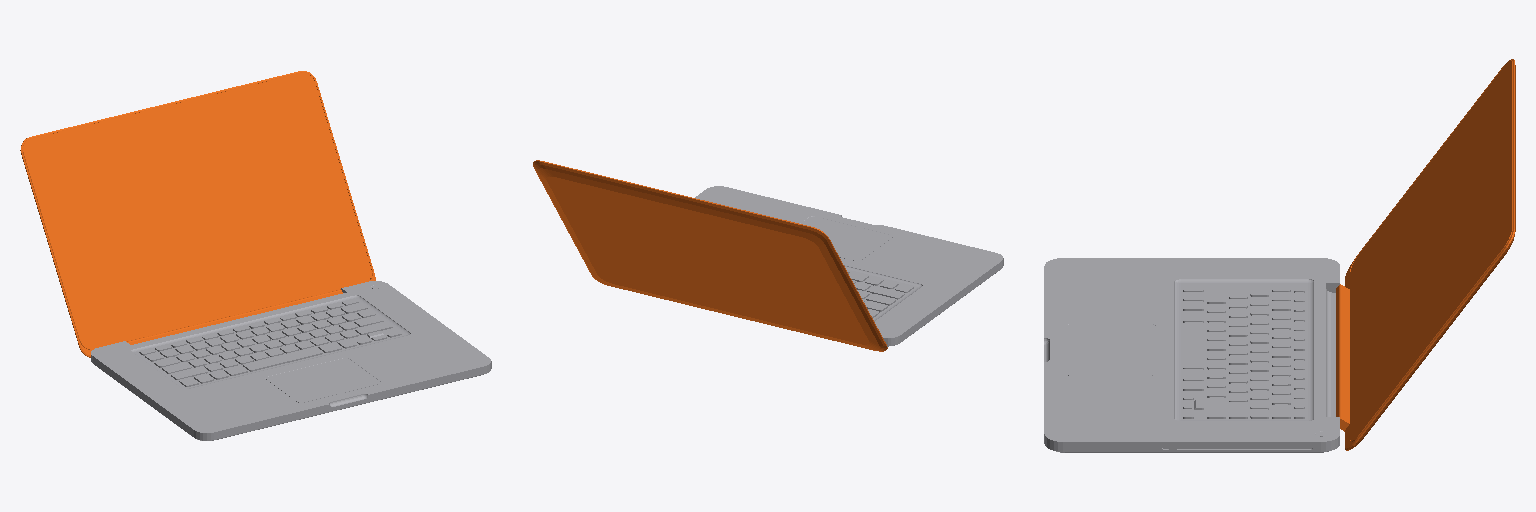
URDF robot description (laptop_10211):
<?xml version="1.0"?>
<robot name="laptop_10211">
  <!-- Meshes come from the dataset *_rotate exports, which share the joint frame. -->
  <link name="base_link">
    <visual>
      <origin xyz="0 0 0" rpy="0 0 0"/>
      <geometry>
        <mesh filename="meshes/laptop_10211_base.obj"/>
      </geometry>
      <material name="steel_grey">
        <color rgba="0.70 0.70 0.72 1.0"/>
      </material>
    </visual>
    <collision>
      <origin xyz="0 0 0" rpy="0 0 0"/>
      <geometry>
        <mesh filename="meshes/laptop_10211_base.obj"/>
      </geometry>
    </collision>
    <inertial>
      <origin xyz="-0.061970155 -0.004025565 0.005842246" rpy="0 0 0"/>
      <mass value="0.086894075"/>
      <inertia ixx="0.003838389" ixy="0.000000000" ixz="0.000000000" iyy="0.008297129" iyz="0.000000000" izz="0.012105522"/>
    </inertial>
  </link>

  <link name="moving_link">
    <visual>
      <origin xyz="0 0 0" rpy="0 0 0"/>
      <geometry>
        <mesh filename="meshes/laptop_10211_moving.obj"/>
      </geometry>
      <material name="handle_orange">
        <color rgba="0.93 0.47 0.16 1.0"/>
      </material>
    </visual>
    <collision>
      <origin xyz="0 0 0" rpy="0 0 0"/>
      <geometry>
        <mesh filename="meshes/laptop_10211_moving.obj"/>
      </geometry>
    </collision>
    <inertial>
      <origin xyz="-0.093822197 0.144149930 0.161506958" rpy="0 0 0"/>
      <mass value="0.013105925"/>
      <inertia ixx="0.000603119" ixy="0.000000000" ixz="0.000000000" iyy="0.001638881" iyz="0.000000000" izz="0.001462567"/>
    </inertial>
  </link>

  <joint name="scissor_hinge" type="revolute">
    <origin xyz="0.000000000 0.247147148 -0.007706040" rpy="0 0 0"/>
    <parent link="base_link"/>
    <child link="moving_link"/>
    <axis xyz="1.000000000 0.000000000 0.000000000"/>
    <limit lower="0.000000000" upper="0.698131701" effort="5.0" velocity="4.0"/>
    <dynamics damping="0.05" friction="0.02"/>
  </joint>
</robot>

--- Facts derived from the render (not from the file) ---
The picture shows the robot from 3 angles, left to right: view 1: azimuth 30°, elevation 25°; view 2: azimuth 150°, elevation 25°; view 3: azimuth 270°, elevation 25°; orthographic projection.
Model laptop_10211 with 2 links and 1 joints (1 revolute), rooted at base_link, posed every joint at zero.
Links seen in each view (by area): view 1: moving_link, base_link; view 2: moving_link, base_link; view 3: base_link, moving_link.
Link boxes in pixels (x1,y1,x2,y2): moving_link: (20,71,375,357); base_link: (91,281,491,440); moving_link: (533,160,887,351); base_link: (695,186,1003,346); base_link: (1044,258,1339,452); moving_link: (1336,59,1515,450).
Size in the robot's own frame: 1.07 by 1.16 by 0.6017 metres.
2 mesh visuals loaded from 2 distinct referenced files (2 OBJ).
